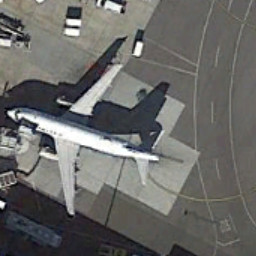Airplane: (4, 56, 169, 218)
